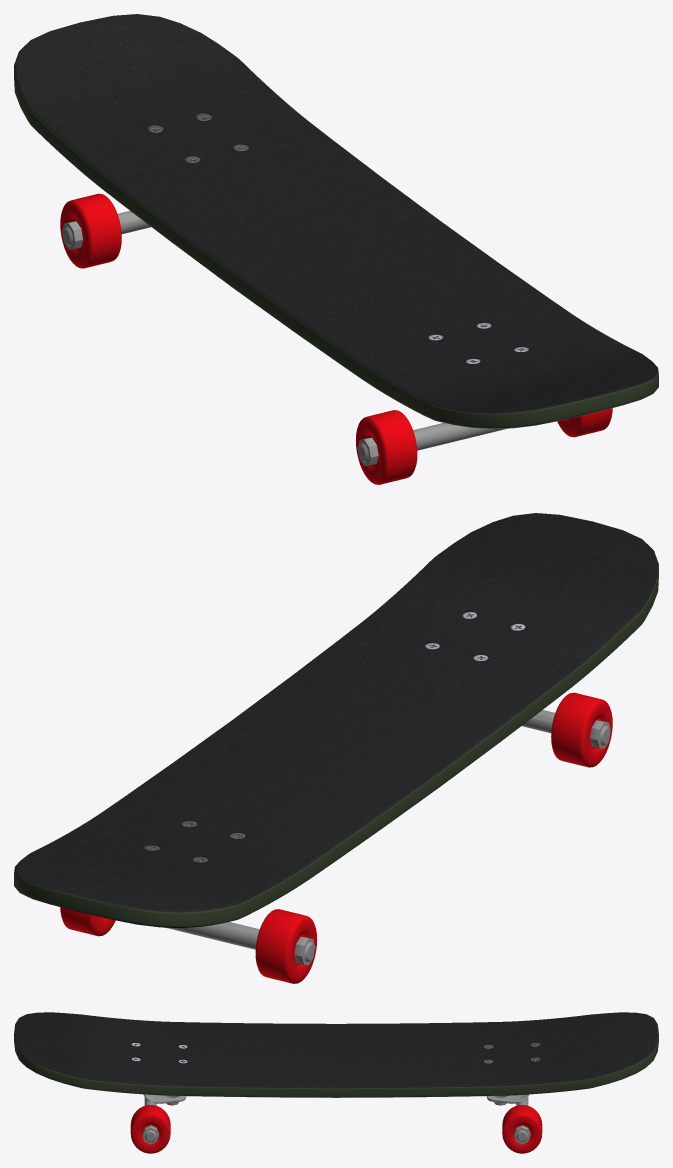
The model's file is Low Polly skateboard.glb.
The picture shows the model from 3 angles, top to bottom: view 1: azimuth 30°, elevation 25°; view 2: azimuth 150°, elevation 25°; view 3: azimuth 270°, elevation 25°; orthographic projection. The views are drawn at different scales.
Visible parts, largest first — view 1: Deck, Cylinder.008, Cylinder.004, Cylinder.003, Cylinder.006; view 2: Deck, Cylinder.004, Cylinder.008, Cylinder.012, Cylinder.010; view 3: Deck, Cylinder.006, Cylinder.010, Plane.001, Plane.002, Cylinder.007, Cylinder.011.
Part boxes in pixels (x1,y1,x2,y2): Deck: (14, 14, 658, 428); Cylinder.008: (60, 193, 121, 268); Cylinder.004: (356, 410, 417, 484); Cylinder.003: (413, 423, 506, 450); Cylinder.006: (557, 408, 612, 437); Deck: (14, 513, 658, 927); Cylinder.004: (551, 692, 612, 767); Cylinder.008: (255, 909, 316, 983); Cylinder.012: (166, 922, 259, 949); Cylinder.010: (60, 907, 115, 936); Deck: (14, 1012, 658, 1097); Cylinder.006: (130, 1105, 170, 1153); Cylinder.010: (502, 1105, 542, 1153); Plane.001: (143, 1094, 186, 1103); Plane.002: (486, 1094, 529, 1103); Cylinder.007: (142, 1125, 158, 1144); Cylinder.011: (514, 1125, 530, 1144).
Size of the model in its own units: 1.62 by 0.8756 by 5.89.
Materials: 3 (1 with a texture image).
